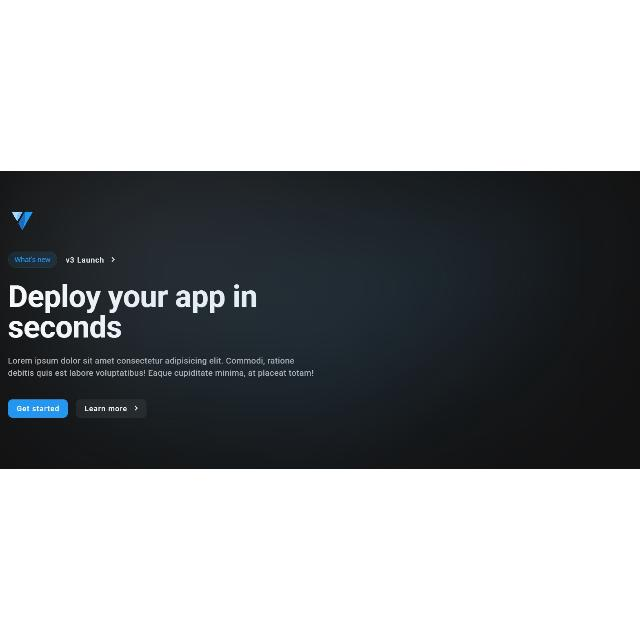QLabel: (6, 282, 258, 342), (7, 357, 316, 379), (16, 406, 60, 414), (64, 256, 104, 264), (13, 256, 53, 264), (82, 406, 128, 412)
VBtn: (76, 400, 146, 420), (6, 398, 68, 419), (8, 250, 58, 270)
VIcon: (12, 211, 34, 231), (111, 256, 115, 262), (134, 406, 138, 410)
